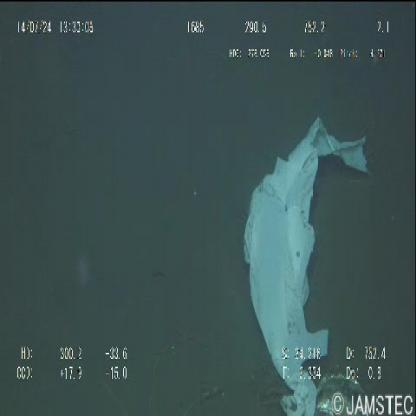Rác: (244, 117, 370, 415)
